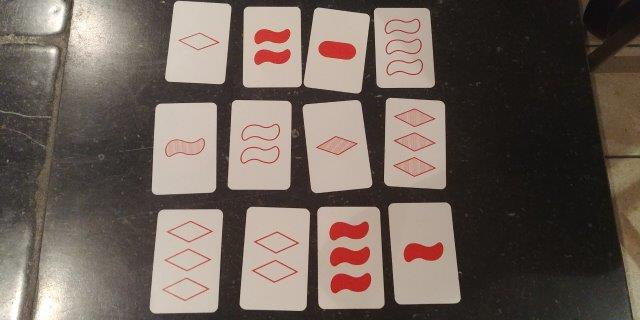1ED: (173, 6, 222, 79)
1FP: (313, 13, 359, 87)
1FW: (396, 205, 450, 301)
1HD: (311, 105, 360, 187)
1HW: (158, 107, 212, 190)
2ED: (247, 211, 305, 306)
2EW: (233, 103, 286, 187)
2FW: (246, 7, 296, 86)
3ED: (159, 213, 216, 310)
3EW: (378, 10, 428, 85)
3FW: (321, 209, 377, 306)
3HD: (388, 102, 441, 184)
